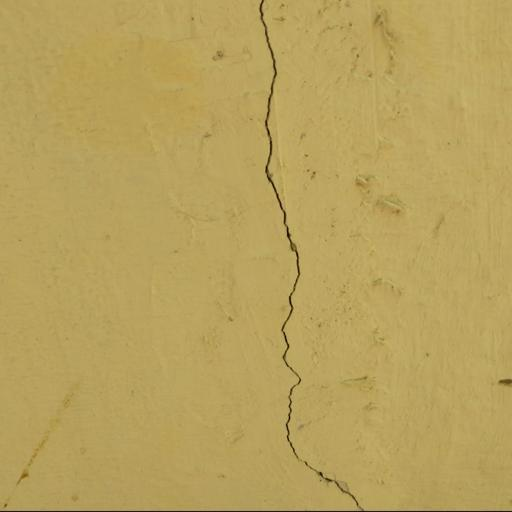major_crack: (237, 0, 370, 512)
